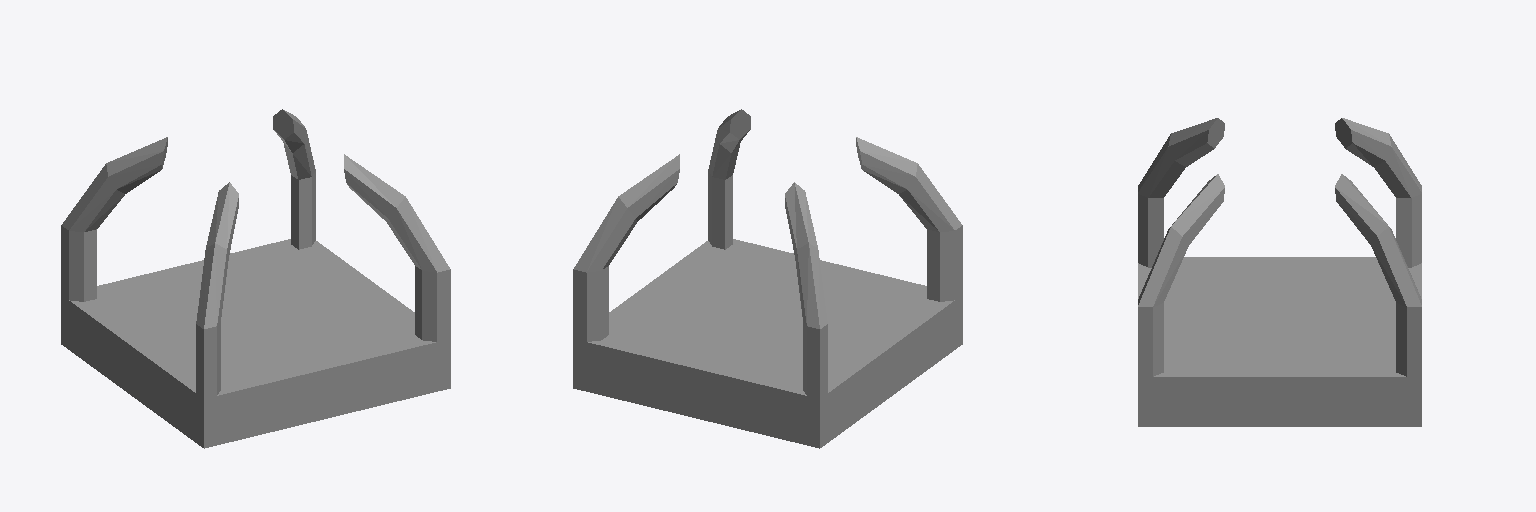
Rendered from lamp.obj.
3 renders of one model, left to right at view 1: azimuth 30°, elevation 25°; view 2: azimuth 150°, elevation 25°; view 3: azimuth 270°, elevation 25°, orthographic.
Visible parts, largest first — view 1: Cube_Cube.002, Cube.001_Cube.000; view 2: Cube_Cube.002, Cube.001_Cube.000; view 3: Cube_Cube.002, Cube.001_Cube.000.
Boxes of the visible parts, x1=… form: Cube_Cube.002: x1=61, y1=239, x2=450, y2=448; Cube.001_Cube.000: x1=61, y1=109, x2=450, y2=398; Cube_Cube.002: x1=573, y1=239, x2=962, y2=448; Cube.001_Cube.000: x1=573, y1=109, x2=962, y2=398; Cube_Cube.002: x1=1138, y1=257, x2=1421, y2=426; Cube.001_Cube.000: x1=1138, y1=118, x2=1421, y2=376.
Bounding box in the file's own units: 0.65 × 0.5561 × 0.65.